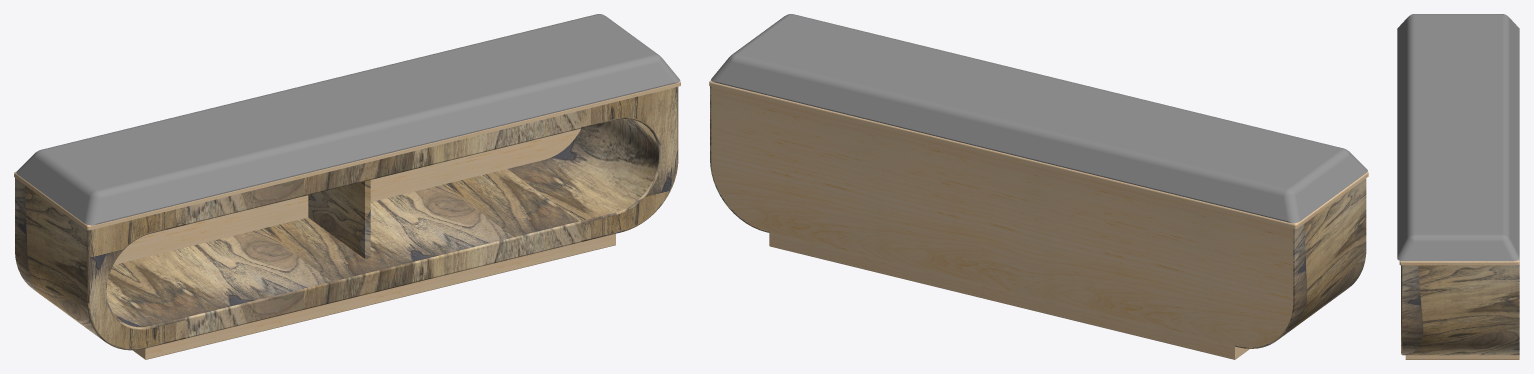
The model's file is IFD4221BEN-mwmll0oa.glb.
The picture shows the model from 3 angles, left to right: view 1: azimuth 30°, elevation 25°; view 2: azimuth 150°, elevation 25°; view 3: azimuth 270°, elevation 25°; orthographic projection. The views are drawn at different scales.
Parts seen in each view (by area): view 1: 4221BENCH1-HULE ESPUMA-1, IFD4221BEN2- TABLERO CURVA INTERNA-3, IFD4221BEN2- TABLERO CURVA INTERNA-2, 4221BENCH1- RESPALDO-1, 4221BENCH1-ENGROSADO FRONTAL -2, 4221BENCH1-ENGROSADO FRONTAL -3, IFD4221BEN-COSTADO EXTERNO-1, 4221BENCH1- ENGROSADO FRONTAL CURVA-2, 4221BENCH1- ENGROSADO FRONTAL CURVA-1, IFD4221BEN-ARMADOR BASE FRONTAL-3, 4221BENCH1-DIVISION-1, 4221BENCH1-PAMBAZO-1 (+1 smaller); view 2: 4221BENCH1- RESPALDO-1, 4221BENCH1-HULE ESPUMA-1, IFD4221BEN-COSTADO EXTERNO-1, IFD4221BEN-ARMADOR BASE FRONTAL-4, 4221BENCH1-PAMBAZO-1; view 3: 4221BENCH1-HULE ESPUMA-1, IFD4221BEN-COSTADO EXTERNO-2, 4221BENCH1-PAMBAZO-1, IFD54221BEN-ARMADOR LATERAL BASE-6, 4221BENCH1- ENGROSADO FRONTAL CURVA-1.
Boxes of the visible parts, x1,y1,x2,y2 form: 4221BENCH1-HULE ESPUMA-1: (16,14,680,225); IFD4221BEN2- TABLERO CURVA INTERNA-3: (115,169,578,316); IFD4221BEN2- TABLERO CURVA INTERNA-2: (508,119,658,221); 4221BENCH1- RESPALDO-1: (113,128,580,264); 4221BENCH1-ENGROSADO FRONTAL -2: (185,221,581,338); 4221BENCH1-ENGROSADO FRONTAL -3: (185,110,581,224); IFD4221BEN-COSTADO EXTERNO-1: (15,178,124,349); 4221BENCH1- ENGROSADO FRONTAL CURVA-2: (87,207,185,350); 4221BENCH1- ENGROSADO FRONTAL CURVA-1: (581,87,678,241); IFD4221BEN-ARMADOR BASE FRONTAL-3: (145,233,615,359); 4221BENCH1-DIVISION-1: (308,180,370,258); 4221BENCH1-PAMBAZO-1: (14,81,680,230); 4221BENCH1- RESPALDO-1: (711,87,1293,347); 4221BENCH1-HULE ESPUMA-1: (711,14,1367,223); IFD4221BEN-COSTADO EXTERNO-1: (1235,178,1366,348); IFD4221BEN-ARMADOR BASE FRONTAL-4: (769,231,1234,359); 4221BENCH1-PAMBAZO-1: (709,80,1368,228); 4221BENCH1-HULE ESPUMA-1: (1397,14,1519,261); IFD4221BEN-COSTADO EXTERNO-2: (1402,265,1519,355); 4221BENCH1-PAMBAZO-1: (1399,259,1519,265); IFD54221BEN-ARMADOR LATERAL BASE-6: (1405,355,1519,359); 4221BENCH1- ENGROSADO FRONTAL CURVA-1: (1401,265,1402,354).
Size of the model in its own units: 1.82 by 0.516 by 0.4.
13 materials, 6 textured.
